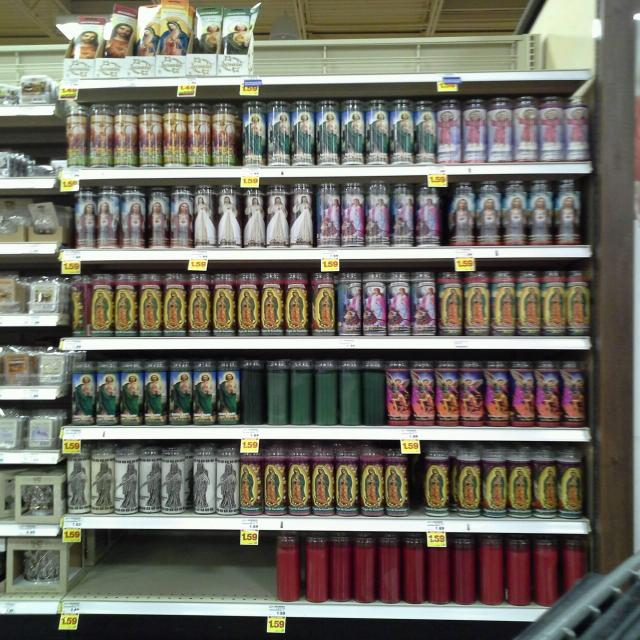empty_space: (275, 13, 559, 66), (90, 534, 264, 598)
